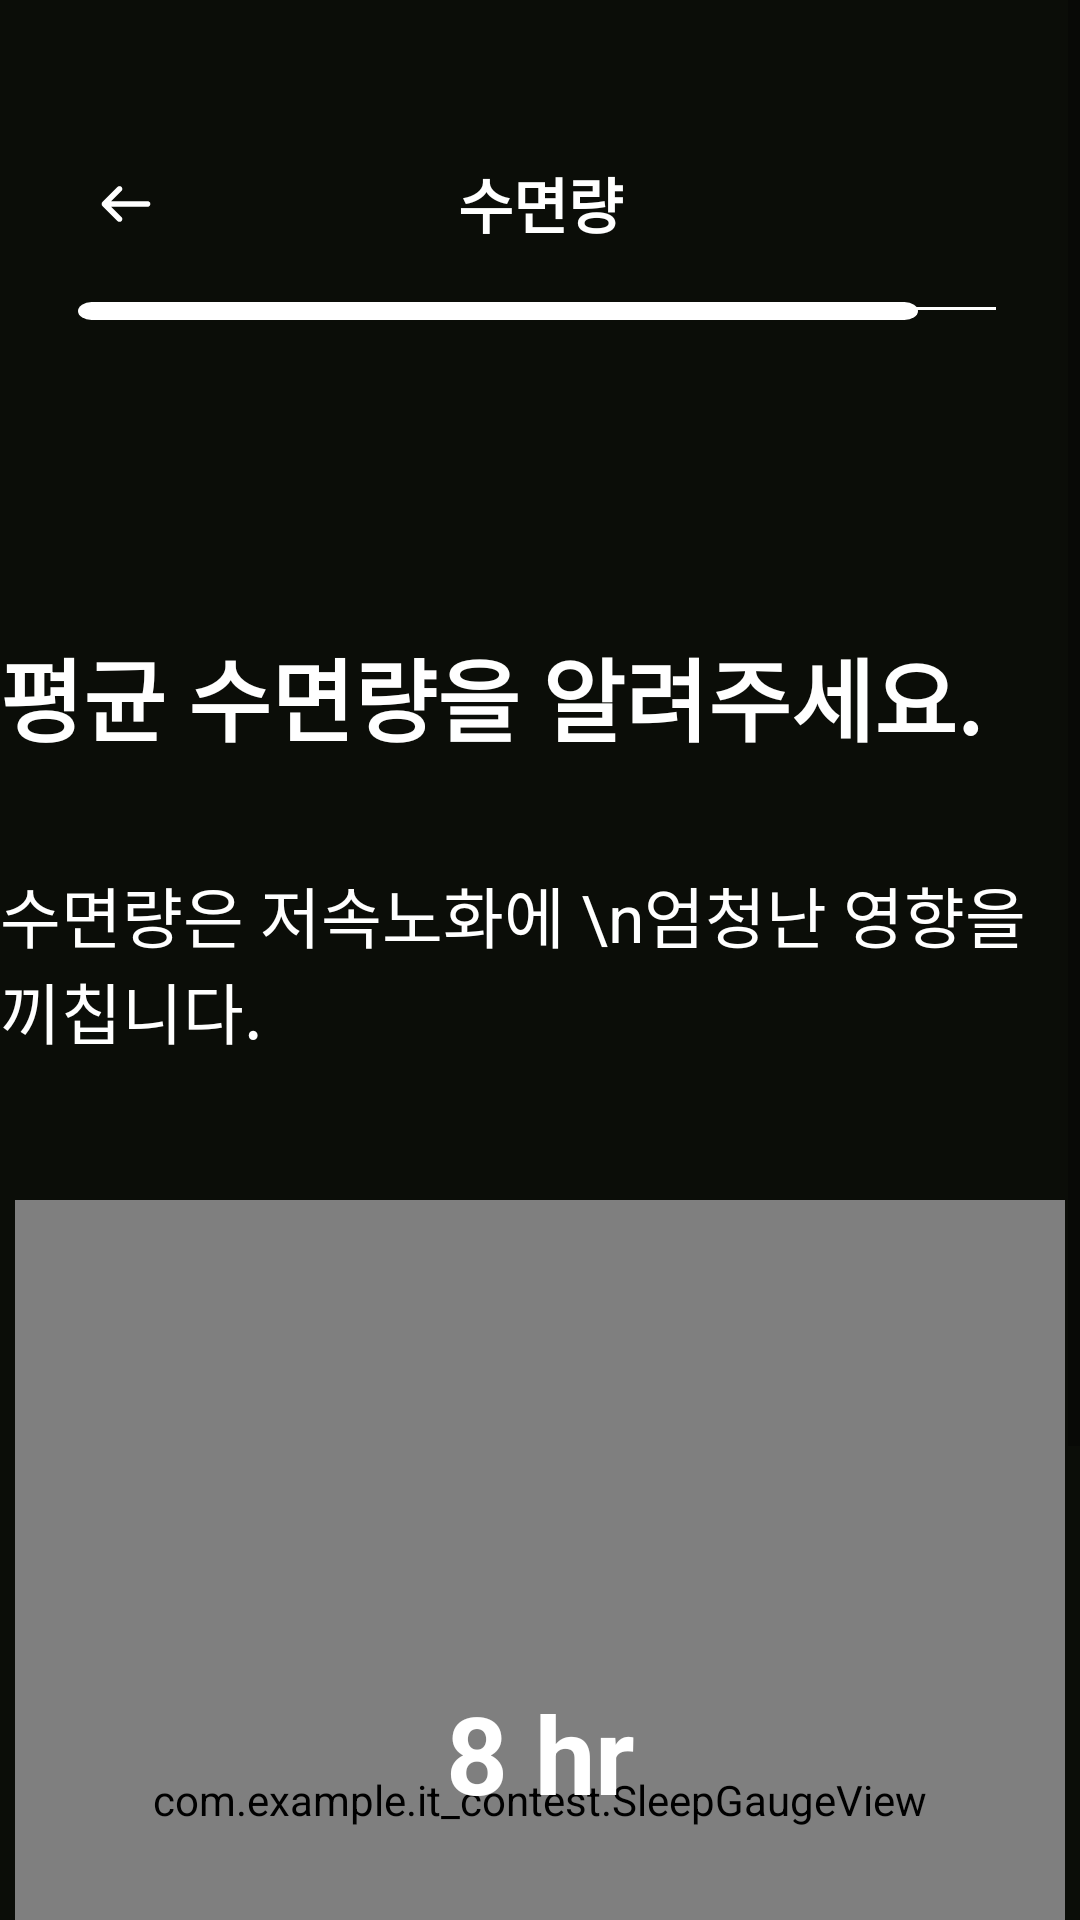

Where to tap for icons on this 1080×1920 app screen, as (x=x, y=y):
backarrow: (x=126, y=204)
